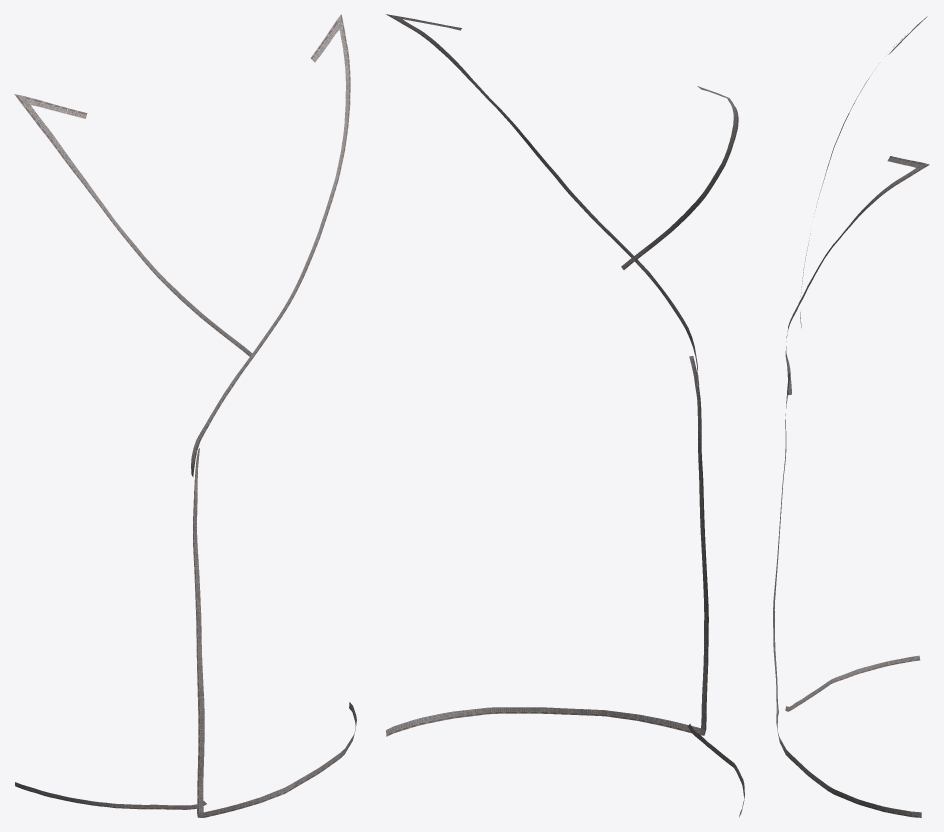
Rendered from peak_double_breasted_suit_AMF 2mm.glb.
The picture shows the model from 3 angles, left to right: view 1: azimuth 30°, elevation 25°; view 2: azimuth 150°, elevation 25°; view 3: azimuth 270°, elevation 25°; orthographic projection. The views are drawn at different scales.
Parts seen in each view (by area): view 1: peak_double_breasted_suit_AMF1; view 2: peak_double_breasted_suit_AMF1; view 3: peak_double_breasted_suit_AMF1.
Boxes of the visible parts, x1=… form: peak_double_breasted_suit_AMF1: x1=14, y1=14, x2=356, y2=817; peak_double_breasted_suit_AMF1: x1=385, y1=14, x2=744, y2=817; peak_double_breasted_suit_AMF1: x1=773, y1=16, x2=929, y2=817.
Bounding box in the file's own units: 0.0478 × 0.0942 × 0.0205.
Materials: 1 (1 with a texture image).
